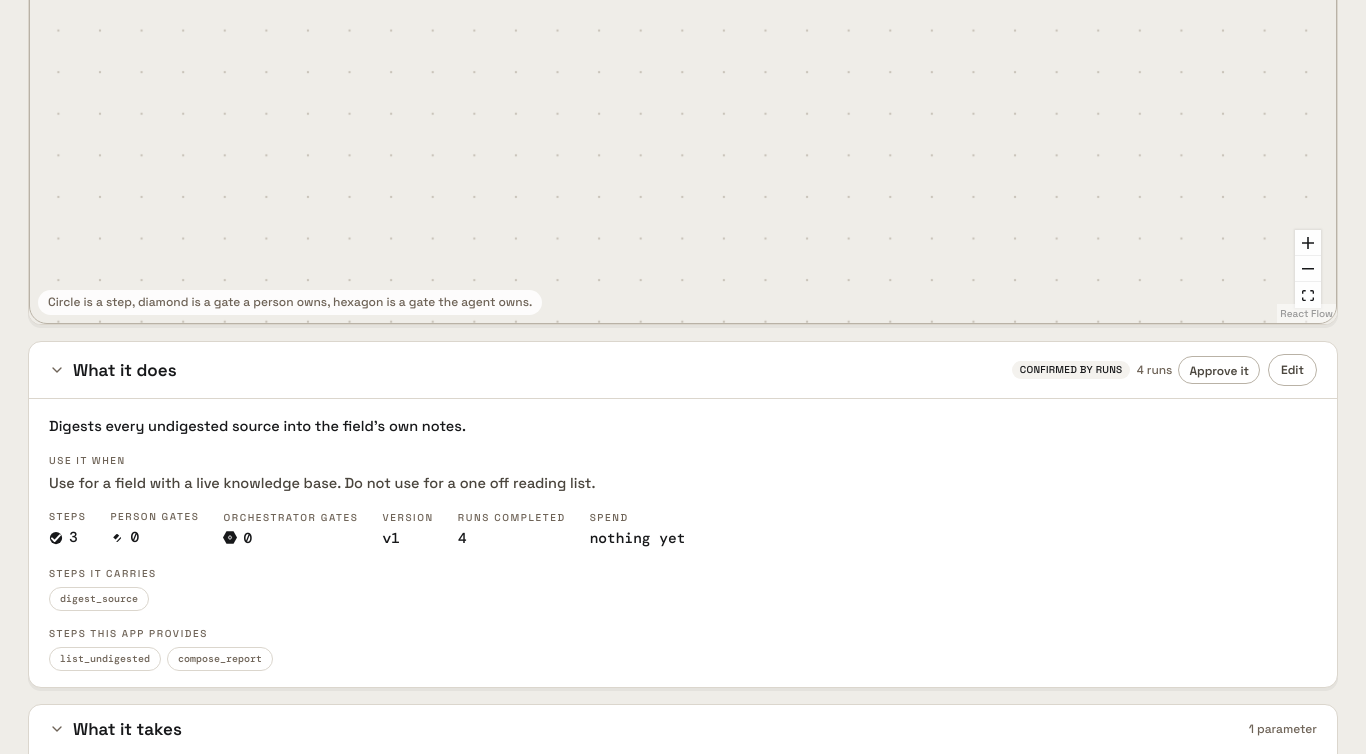
Scenario: WorkflowAbout › folds every section behind its title
(page scrolled)
What coordinates should you click on to do the following:
click the button "What it does"
I would click on:
 (113, 370)
Its box is [49,358,177,383].
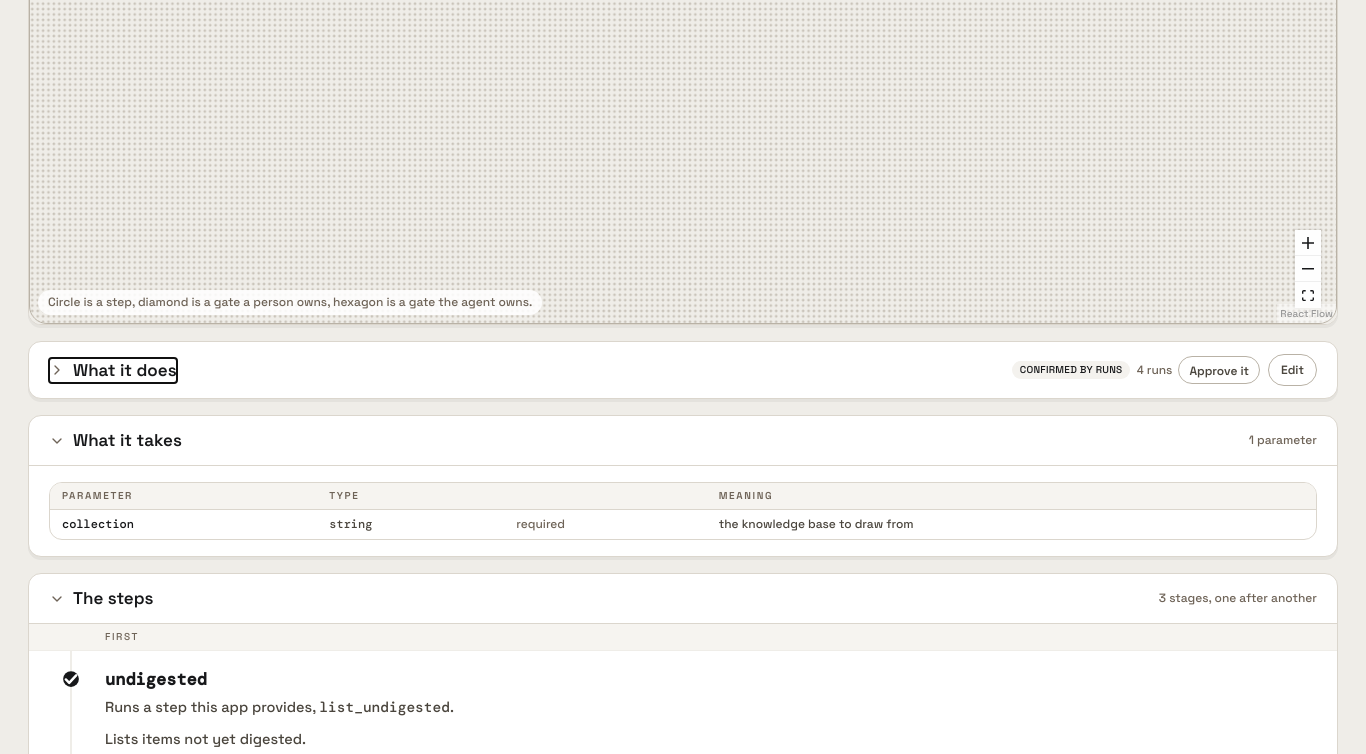
Expected: the button "What it does" is collapsed, [49,358,177,383]
What coordinates should you click on to do the following:
click the button "What it takes"
I would click on:
 (115, 441)
Its box is [49,428,182,453].
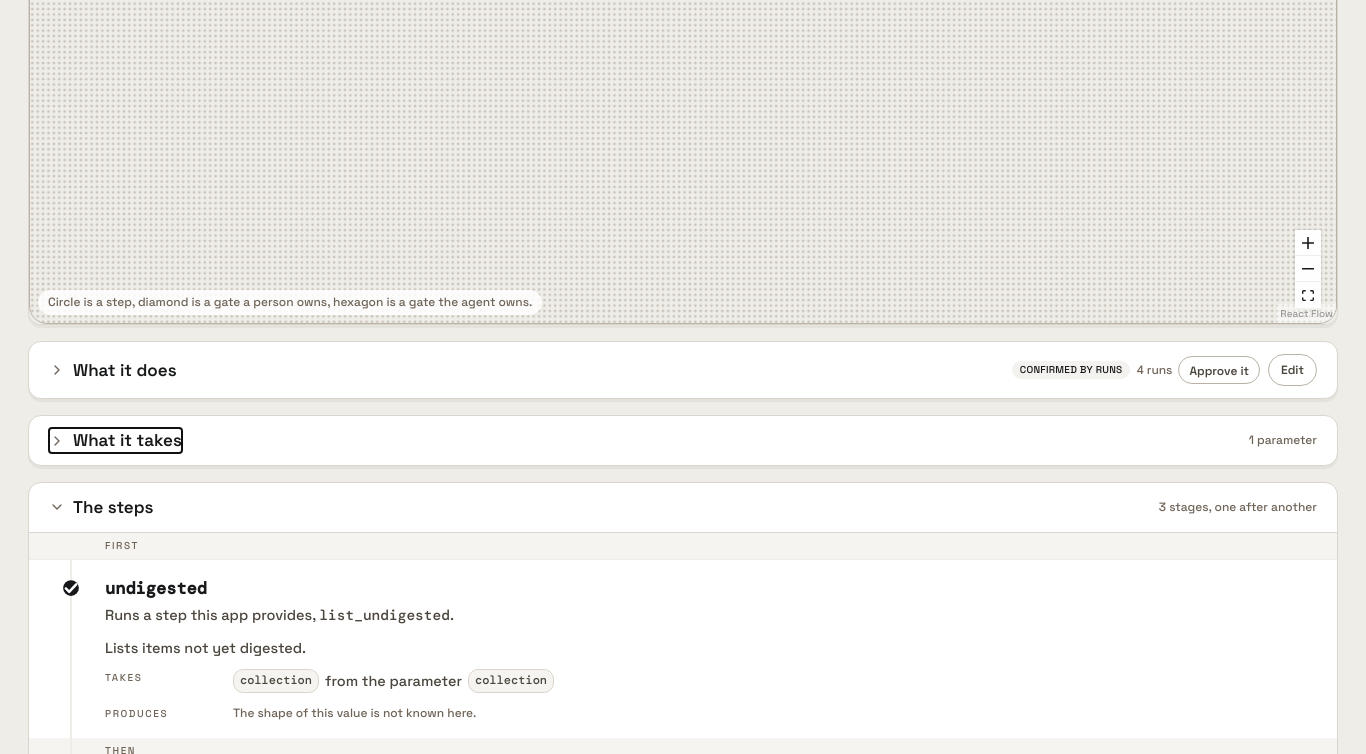
Expected: the button "What it takes" is collapsed, [49,428,182,453]
What coordinates should you click on to do the following:
click the button "The steps"
I would click on:
 (101, 507)
Its box is [49,495,154,520].
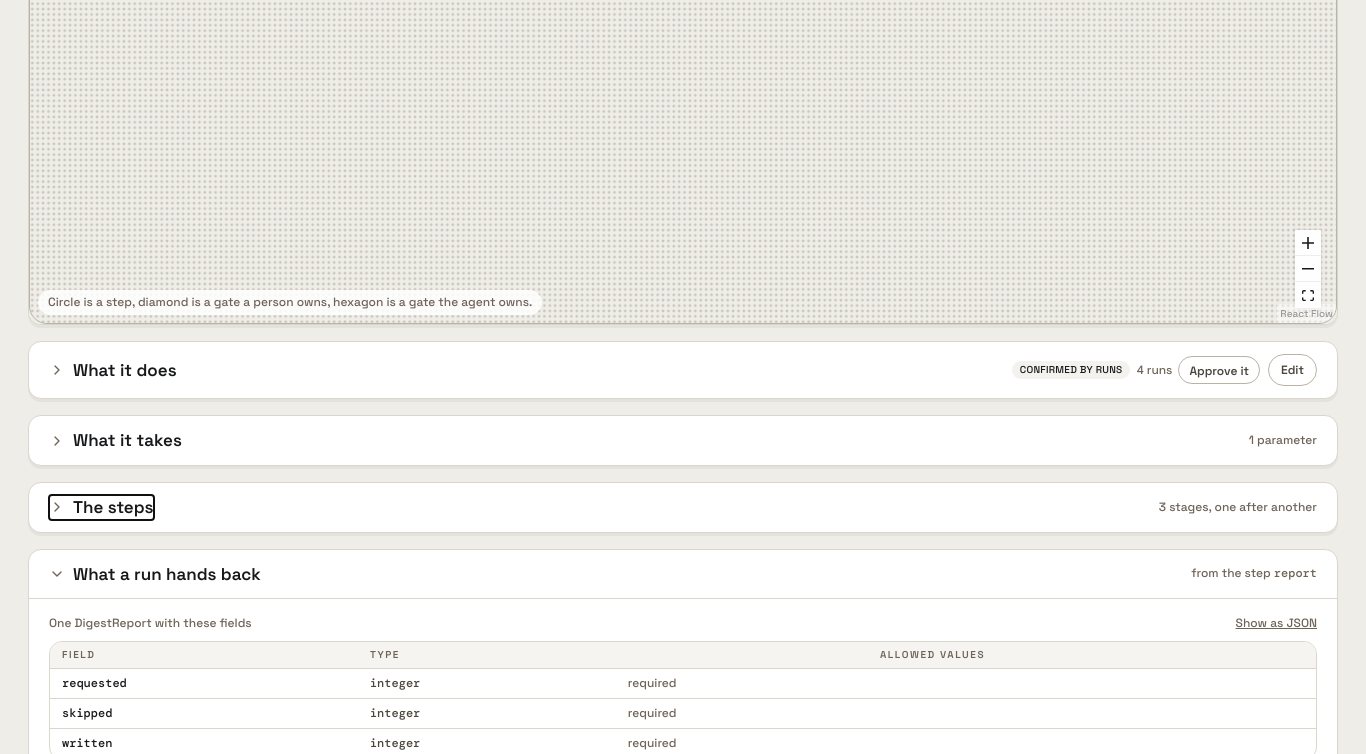
Expected: the button "The steps" is collapsed, [49,495,154,520]
What coordinates should you click on to do the following:
click the button "What a run hands back"
I would click on:
 (155, 574)
Its box is [49,562,261,586].
(page scrolled)
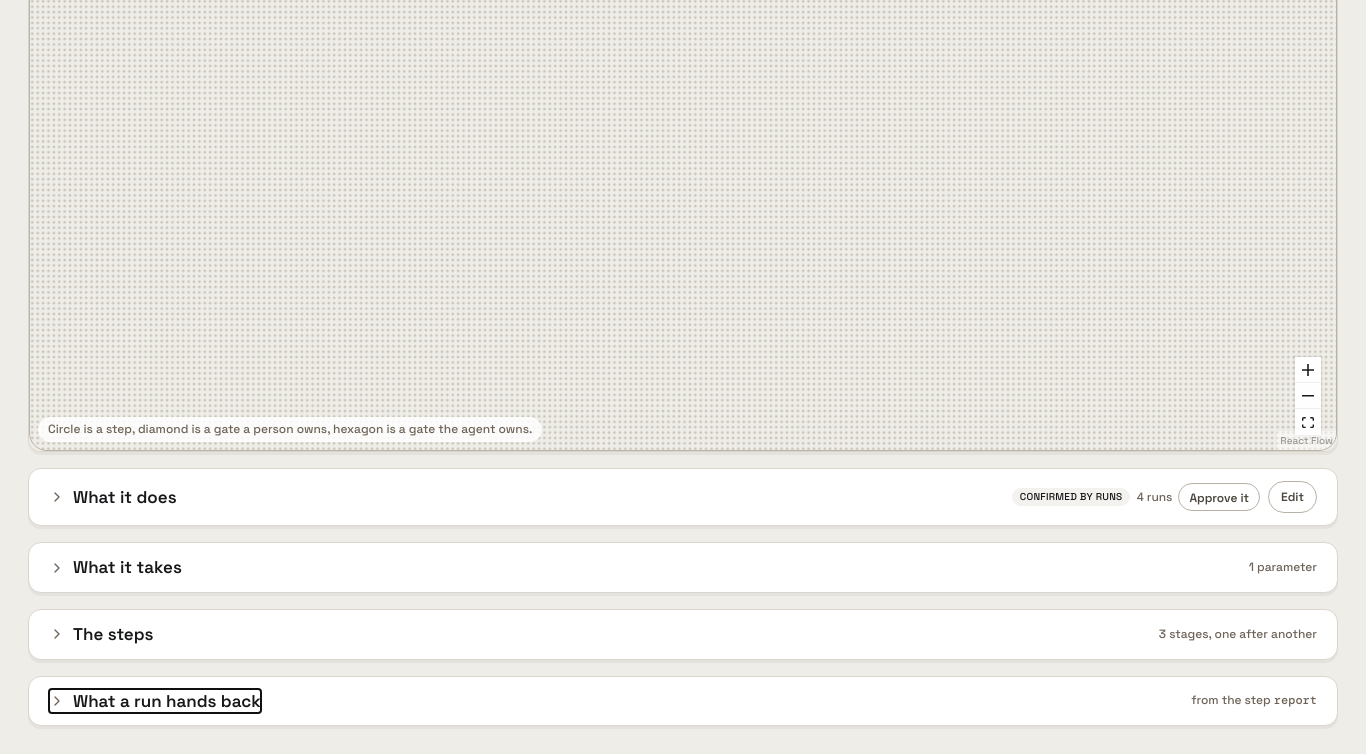
Expected: the text "Use it when" is not shown
Expected: the button "What a run hands back" is collapsed, [49,689,261,713]
